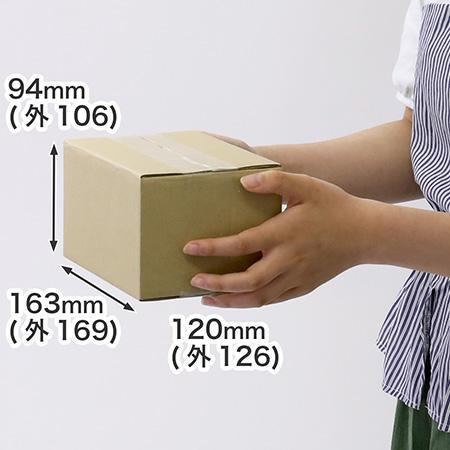box: (63, 140, 283, 302)
